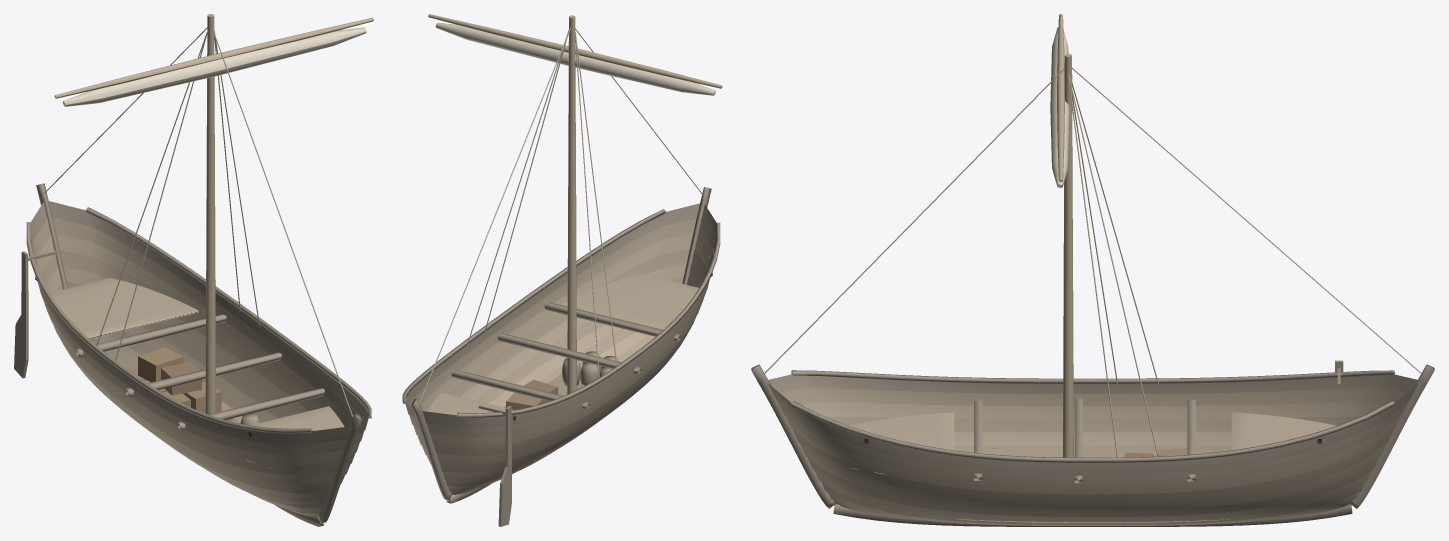
Rendered from knarr-1000.glb.
3 views of the same model, side by side, from view 1: azimuth 30°, elevation 25°; view 2: azimuth 150°, elevation 25°; view 3: azimuth 270°, elevation 25° (orthographic). The views are drawn at different scales.
Parts seen in each view (by area): view 1: pine, pineB, oak, sail-furled, mast, yard, rudder-starboard, bale-top-01, bale-top-02, forestay, shroud-starboard-01, shroud-starboard-02 (+3 smaller); view 2: pine, pineB, oak, sail-furled, mast, yard, rudder-starboard, backstay, shroud-starboard-02, shroud-starboard-01, shroud-port-02, shroud-port-01 (+1 smaller); view 3: pineB, pine, oak, mast, sail-furled, yard, backstay.
Boxes of the visible parts, x1,y1,x2,y2 form: pine: (37, 233, 359, 513); pineB: (33, 217, 363, 517); oak: (26, 183, 371, 526); sail-furled: (62, 27, 366, 106); mast: (205, 14, 215, 414); yard: (54, 17, 373, 98); rudder-starboard: (14, 251, 28, 378); bale-top-01: (138, 347, 183, 382); bale-top-02: (161, 362, 201, 395); forestay: (212, 28, 352, 417); shroud-starboard-01: (115, 31, 207, 360); shroud-starboard-02: (96, 34, 206, 345); pine: (413, 233, 710, 494); pineB: (409, 218, 714, 494); oak: (402, 187, 720, 503); sail-furled: (435, 22, 715, 95); mast: (567, 15, 576, 394); yard: (428, 14, 722, 88); rudder-starboard: (498, 406, 511, 526); backstay: (419, 28, 570, 402); shroud-starboard-02: (574, 32, 599, 377); shroud-starboard-01: (575, 31, 617, 365); shroud-port-02: (466, 30, 568, 346); shroud-port-01: (484, 30, 568, 333); pineB: (777, 388, 1408, 524); pine: (785, 402, 1400, 525); oak: (751, 364, 1434, 526); mast: (1063, 53, 1073, 457); sail-furled: (1050, 27, 1069, 188); yard: (1057, 14, 1064, 182); backstay: (1072, 67, 1421, 373).
Size of the model in its own units: 9.5 by 12.65 by 16.66.
